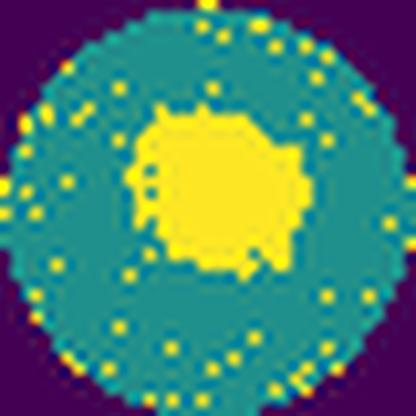Center: (124, 100, 312, 278)
